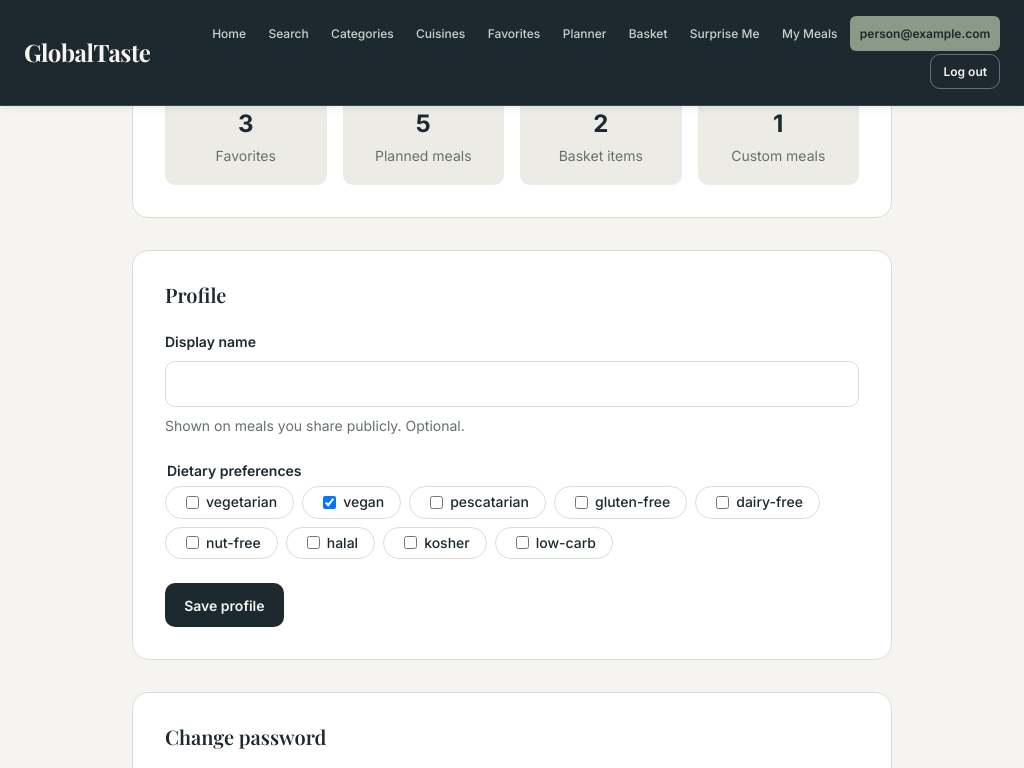
Test case: account page › saves the display name and dietary preferences
(page scrolled)
Type "Sam" into the field labelled "Display name" at (512, 384), box [165,361,859,407]
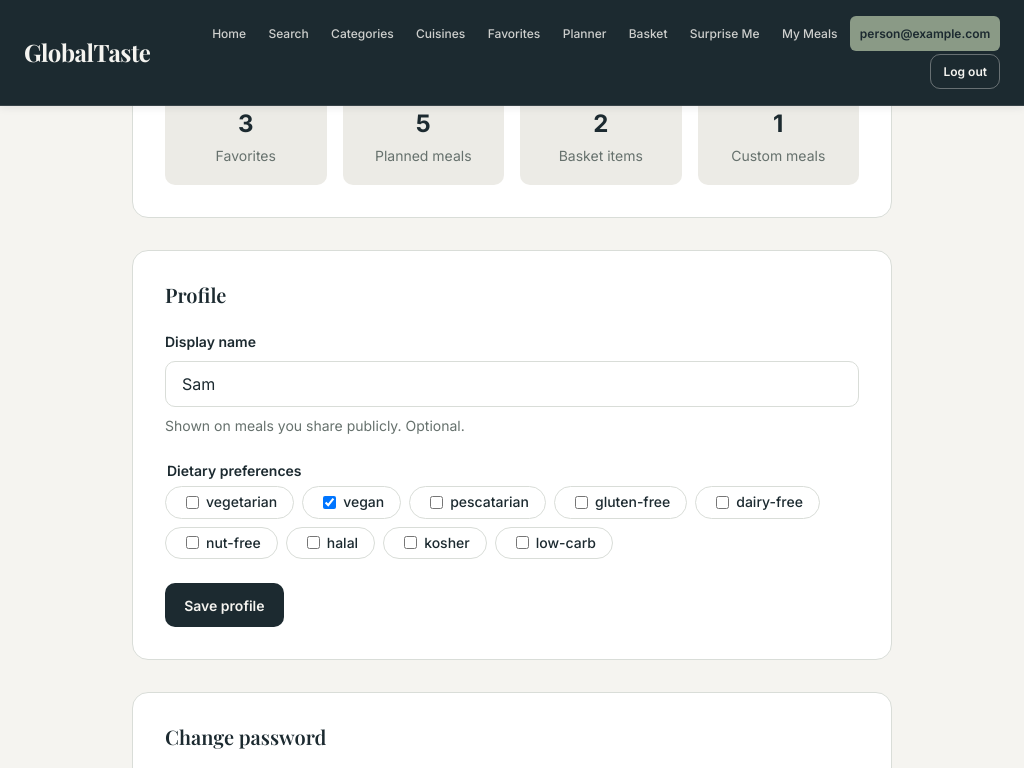
Click the checkbox labelled "halal" at (313, 543), box [307,536,320,549]
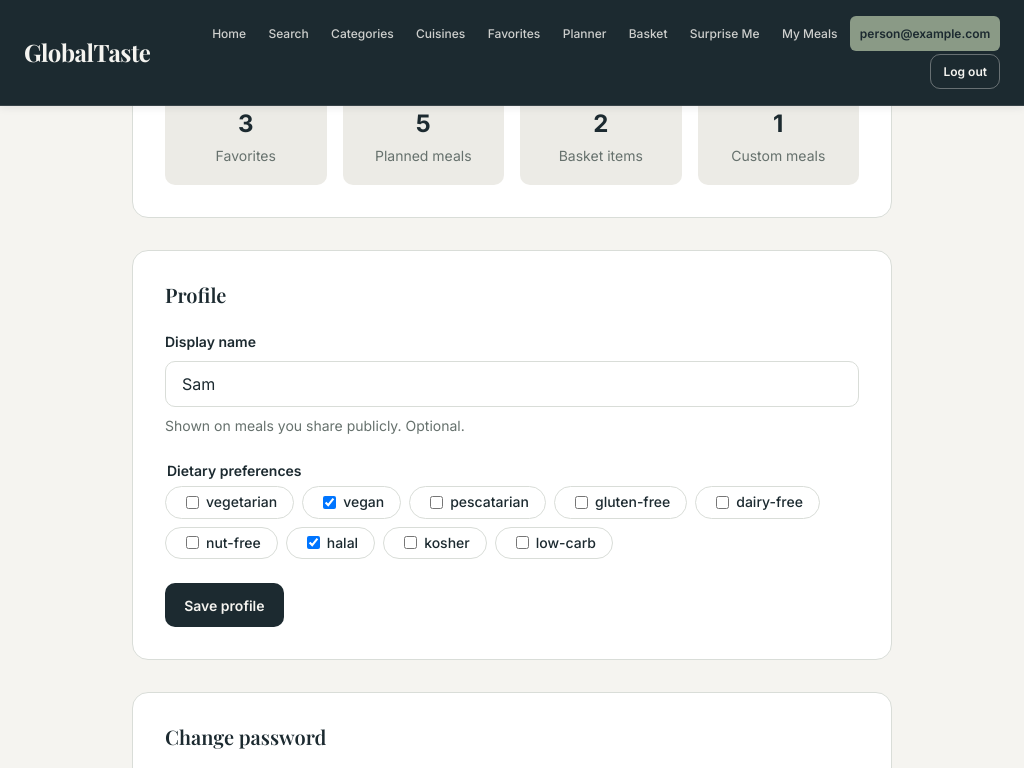
Click the button "Save profile" at (224, 605), box [165,583,284,627]
(page scrolled)
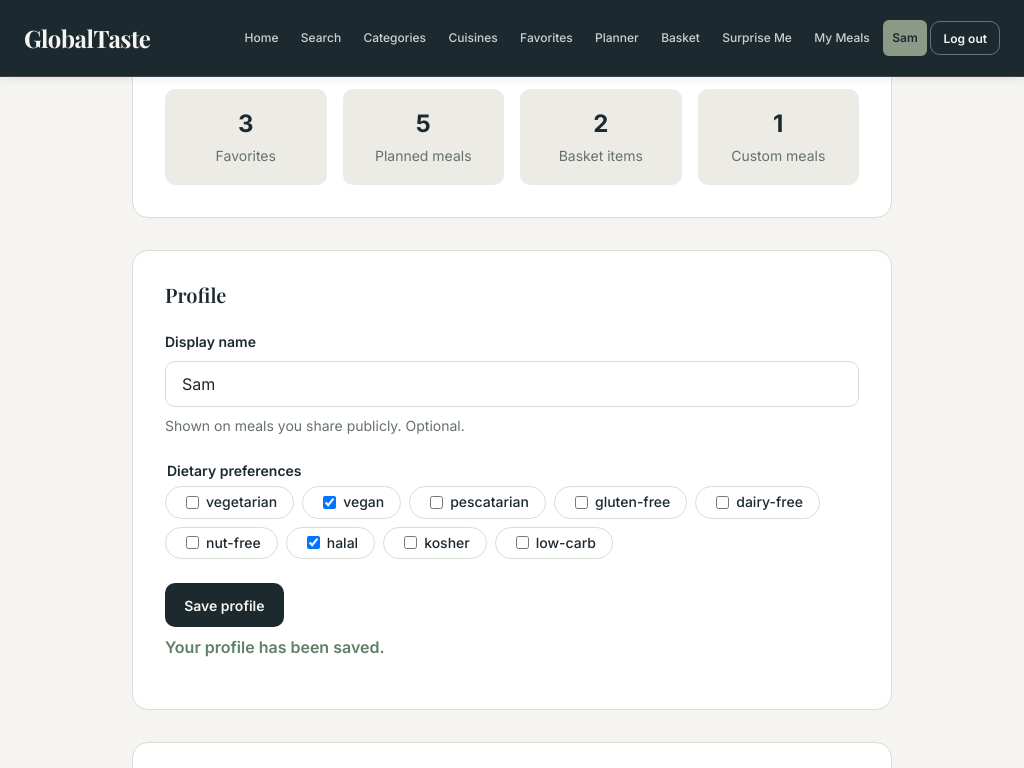
Expected: the text "Your profile has been saved." is shown, [165,637,385,657]
Expected: the link "Sam" is shown, [883,20,927,56]
